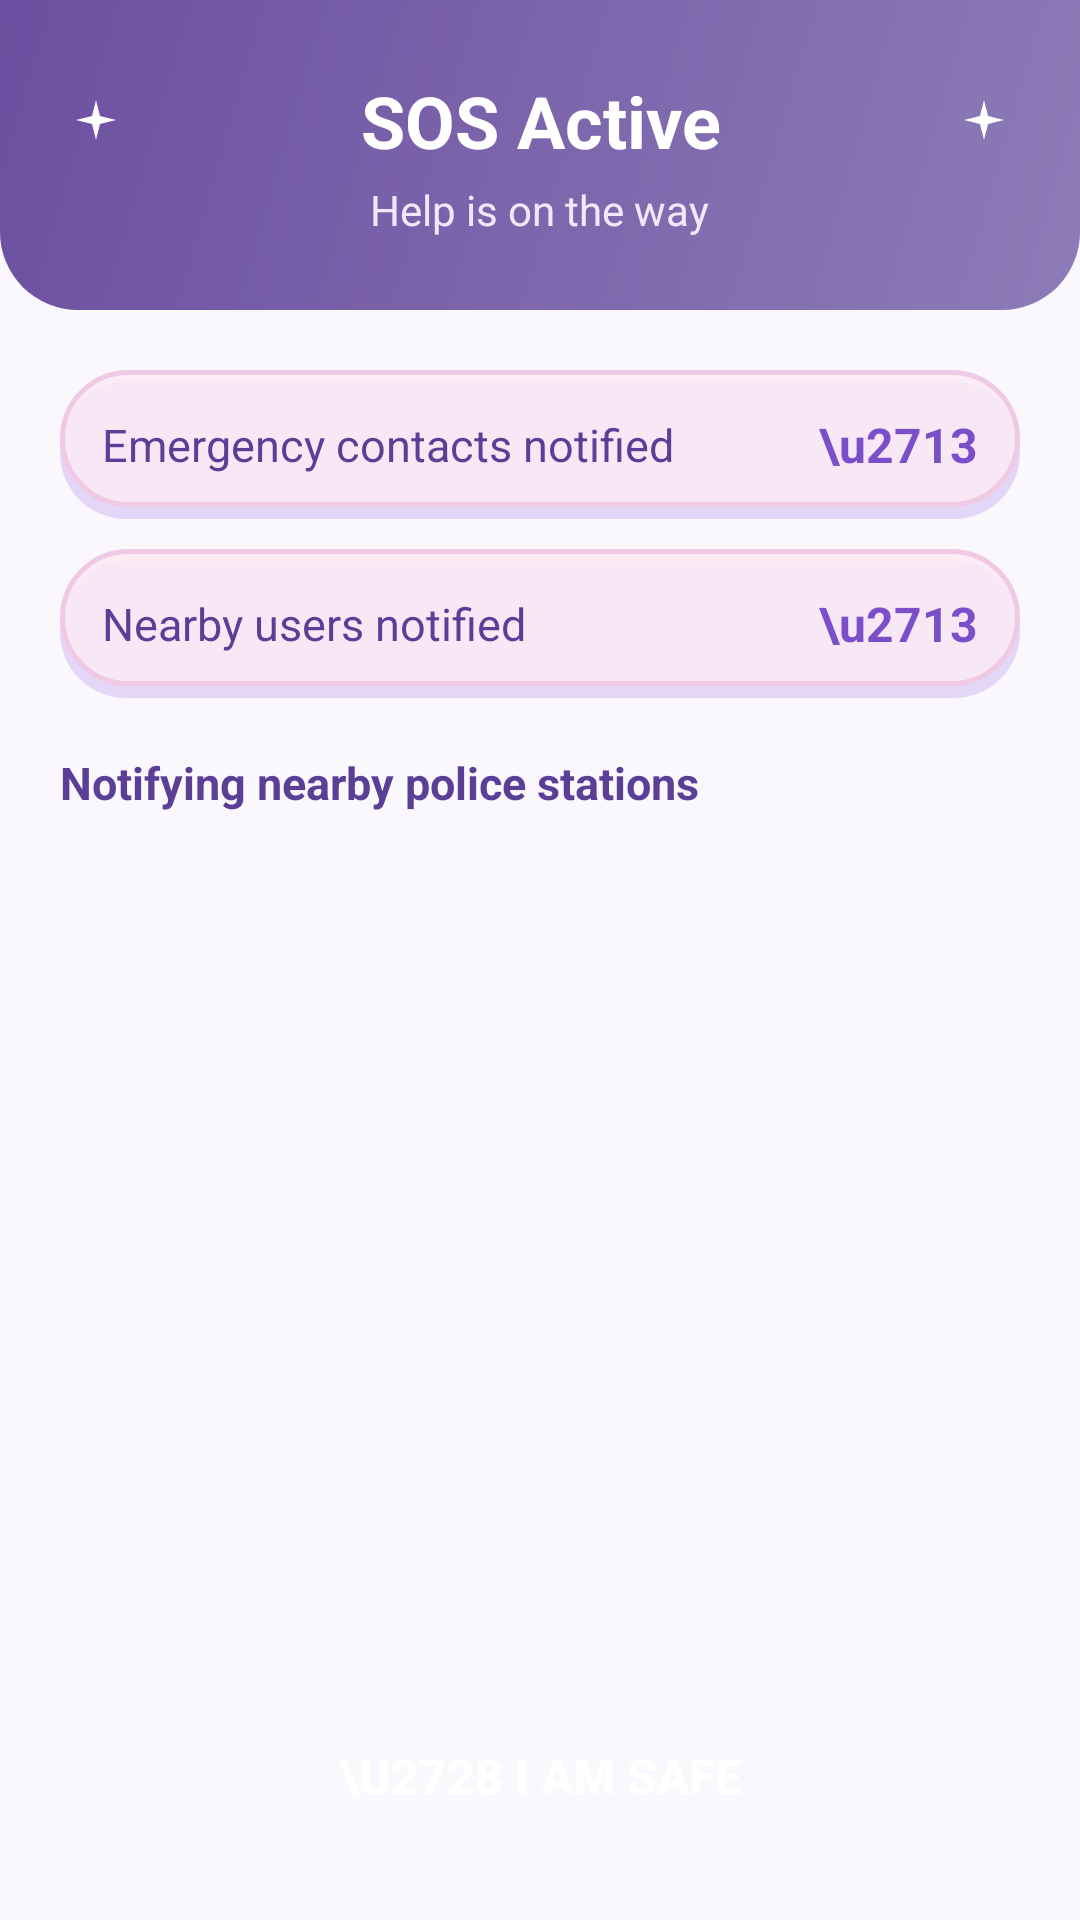

Icons on this 1080×1920 Android screen, each with the point to tap as (x,y):
sparkle: (96,120), (984,120)
